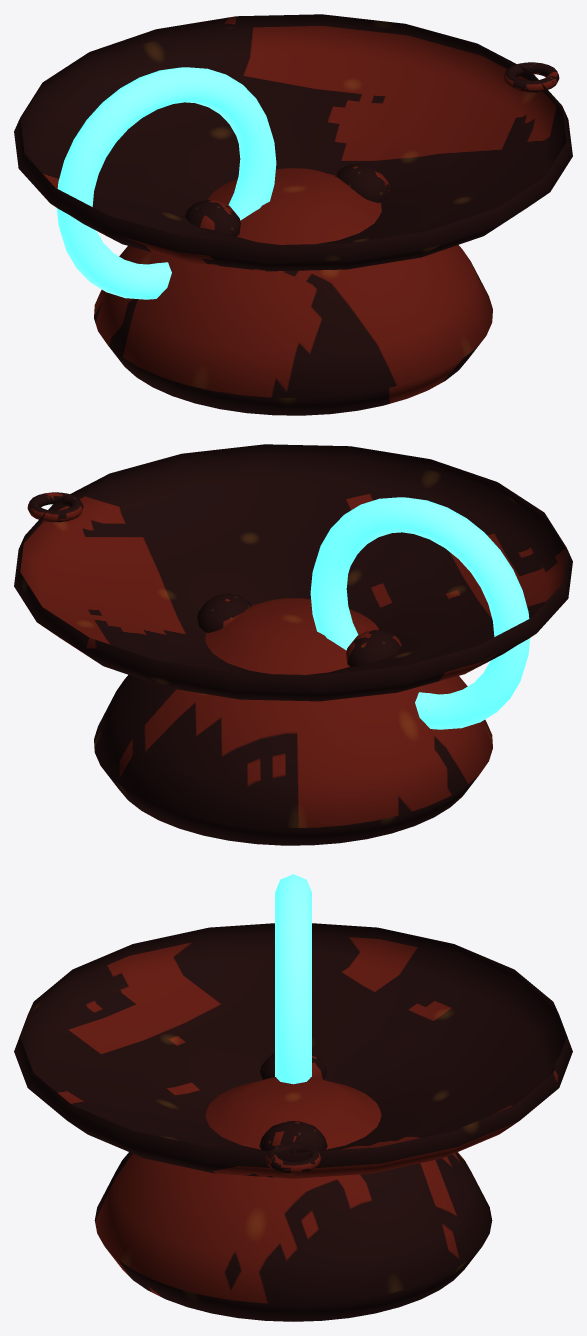
File: ceremonial_lamp_pattern_cinnabar.fbx
3 renders of one model, top to bottom at view 1: azimuth 30°, elevation 25°; view 2: azimuth 150°, elevation 25°; view 3: azimuth 270°, elevation 25°, orthographic.
Visible parts, largest first — view 1: TH10_Lamp_Spout, TH10_Lamp_Reservoir, TH10_Lamp_Handle, TH10_Lamp_HandleMount, TH10_Lamp_HandleMount.001, TH10_Lamp_SpoutRim; view 2: TH10_Lamp_Spout, TH10_Lamp_Reservoir, TH10_Lamp_Handle, TH10_Lamp_HandleMount, TH10_Lamp_HandleMount.001, TH10_Lamp_SpoutRim; view 3: TH10_Lamp_Spout, TH10_Lamp_Reservoir, TH10_Lamp_Handle, TH10_Lamp_HandleMount.001, TH10_Lamp_SpoutRim, TH10_Lamp_HandleMount.
Boxes of the visible parts, x1=… form: TH10_Lamp_Spout: x1=14, y1=14, x2=572, y2=271; TH10_Lamp_Reservoir: x1=94, y1=168, x2=492, y2=415; TH10_Lamp_Handle: x1=56, y1=67, x2=276, y2=299; TH10_Lamp_HandleMount: x1=185, y1=199, x2=240, y2=236; TH10_Lamp_HandleMount.001: x1=335, y1=163, x2=389, y2=202; TH10_Lamp_SpoutRim: x1=503, y1=62, x2=559, y2=92; TH10_Lamp_Spout: x1=14, y1=444, x2=572, y2=701; TH10_Lamp_Reservoir: x1=94, y1=598, x2=492, y2=845; TH10_Lamp_Handle: x1=310, y1=497, x2=530, y2=729; TH10_Lamp_HandleMount: x1=346, y1=629, x2=401, y2=666; TH10_Lamp_HandleMount.001: x1=197, y1=593, x2=251, y2=632; TH10_Lamp_SpoutRim: x1=27, y1=492, x2=83, y2=522; TH10_Lamp_Spout: x1=14, y1=923, x2=572, y2=1178; TH10_Lamp_Reservoir: x1=94, y1=1077, x2=492, y2=1321; TH10_Lamp_Handle: x1=275, y1=874, x2=311, y2=1084; TH10_Lamp_HandleMount.001: x1=259, y1=1121, x2=327, y2=1151; TH10_Lamp_SpoutRim: x1=265, y1=1143, x2=321, y2=1173; TH10_Lamp_HandleMount: x1=260, y1=1053, x2=326, y2=1079.
Size of the model in its own units: 0.187 by 0.106 by 0.18.
Materials: 2 (1 with a texture image).
